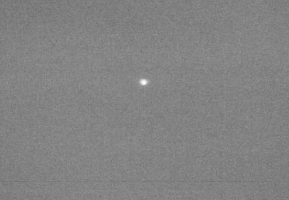Target: (141, 80, 146, 85)
